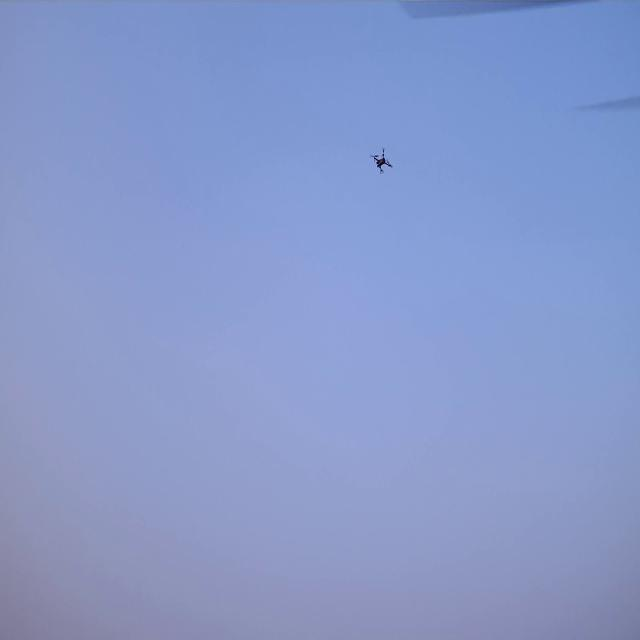UAV: (374, 150, 391, 173)
